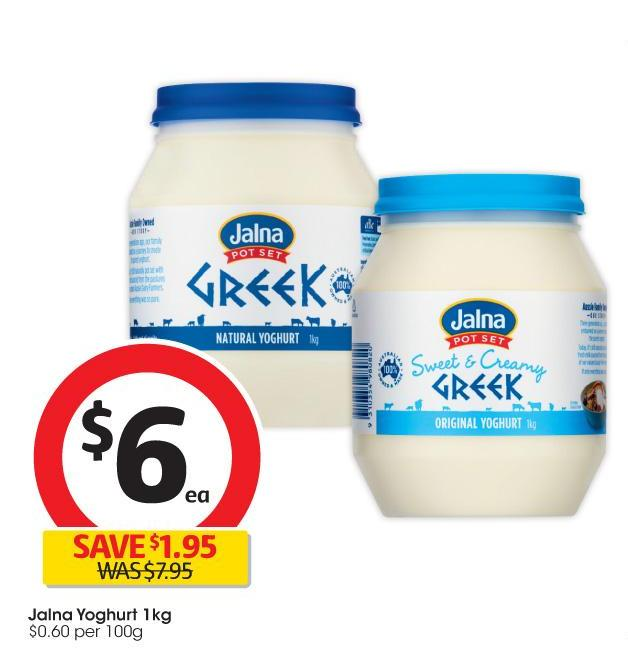description_block: (27, 604, 182, 626)
price_main: (69, 396, 232, 523)
product_image_block: (219, 78, 616, 492)
promo_text_block: (54, 531, 241, 583)
unit_price_block: (21, 625, 159, 645)
